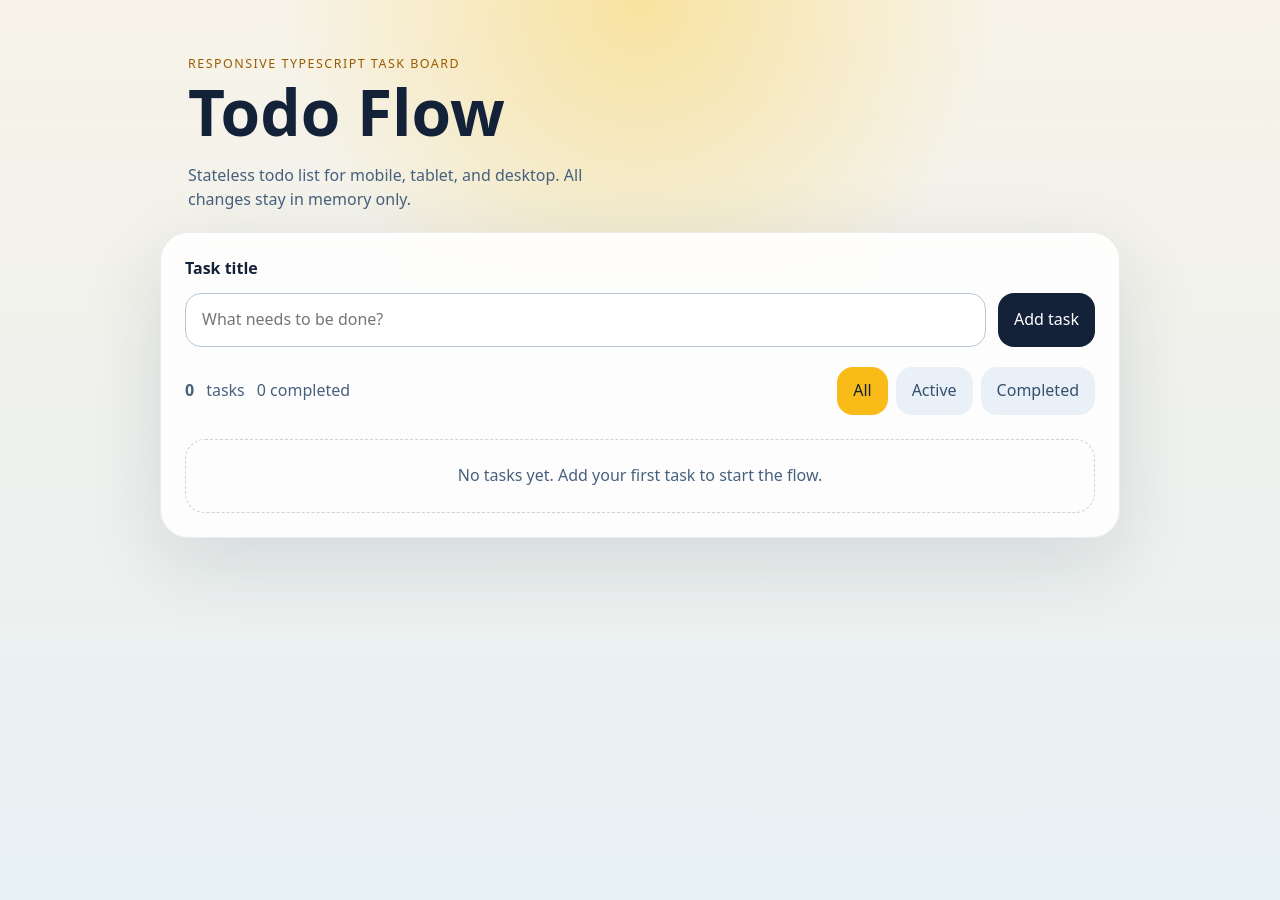
App › edits an existing todo item
The image size is (1280, 900).
Type "Refactor reducer" into the field labelled "Task title" at (586, 320), box left=185, top=292, right=986, bottom=346
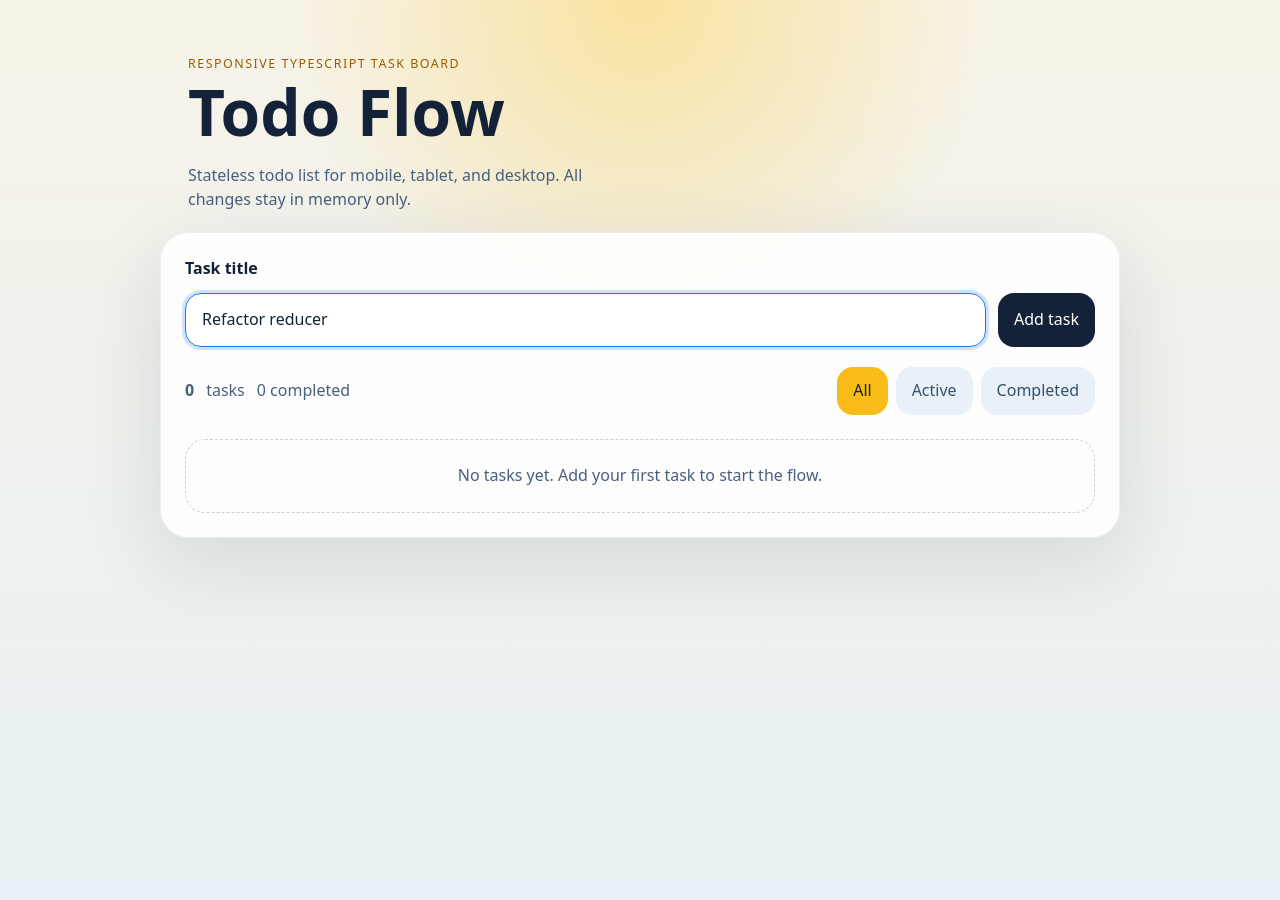
Click the button "Add task" at (1046, 320), box left=998, top=292, right=1095, bottom=346
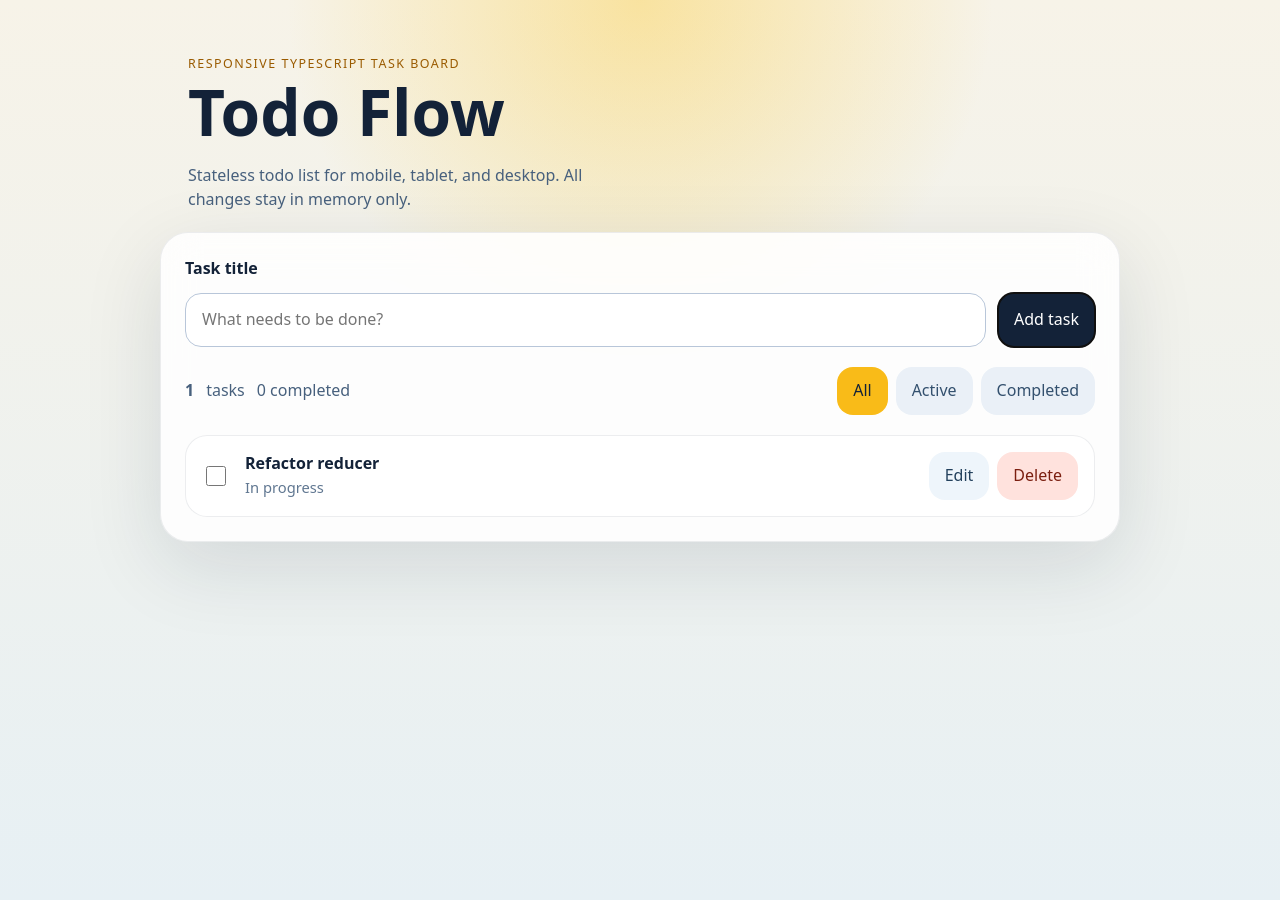
Click the button with aria-label "edit refactor reducer" at (959, 476), box left=929, top=452, right=989, bottom=500
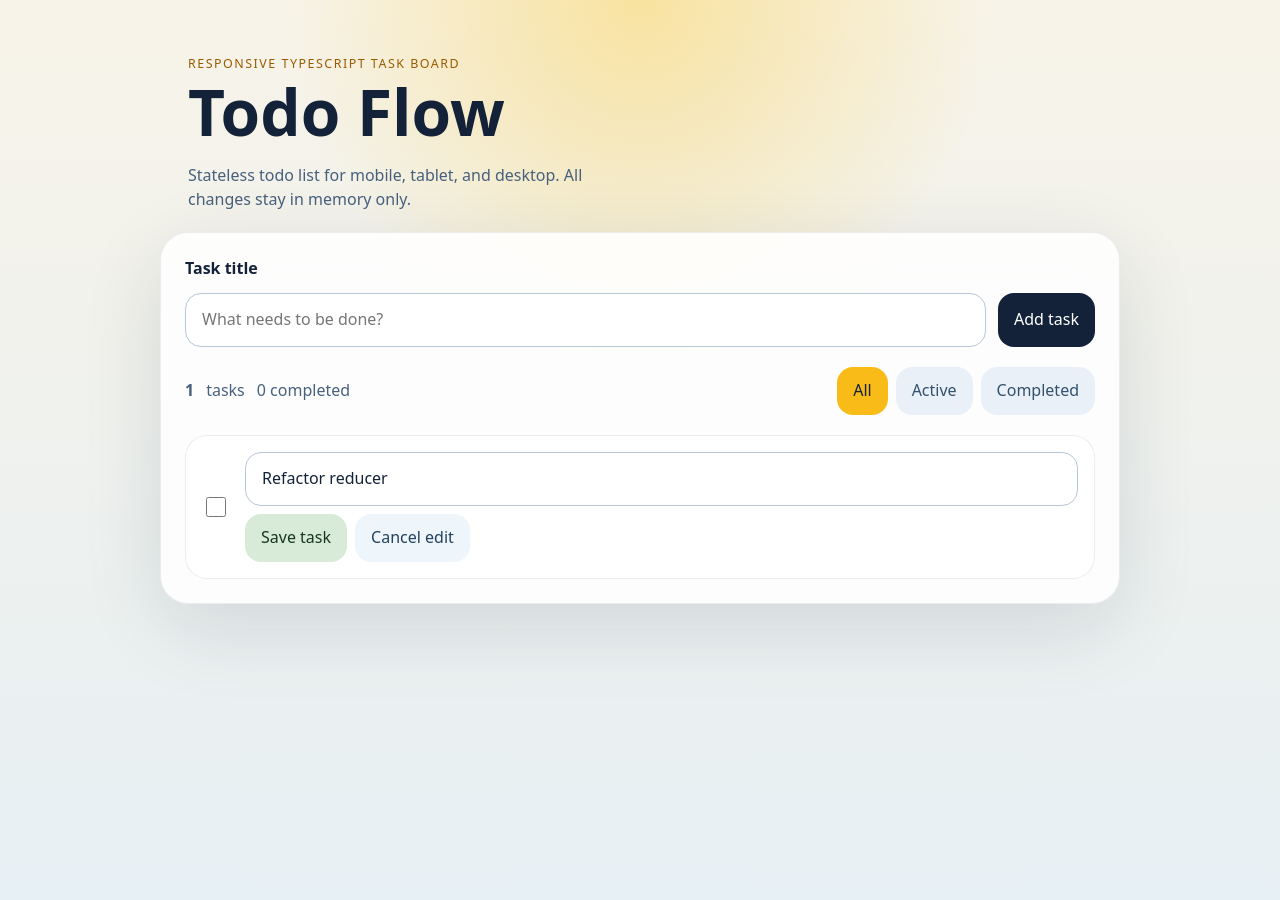
Replace the text in the field named "edit task title" with "Refactor reducer with tests" at (662, 478), box left=245, top=452, right=1078, bottom=506
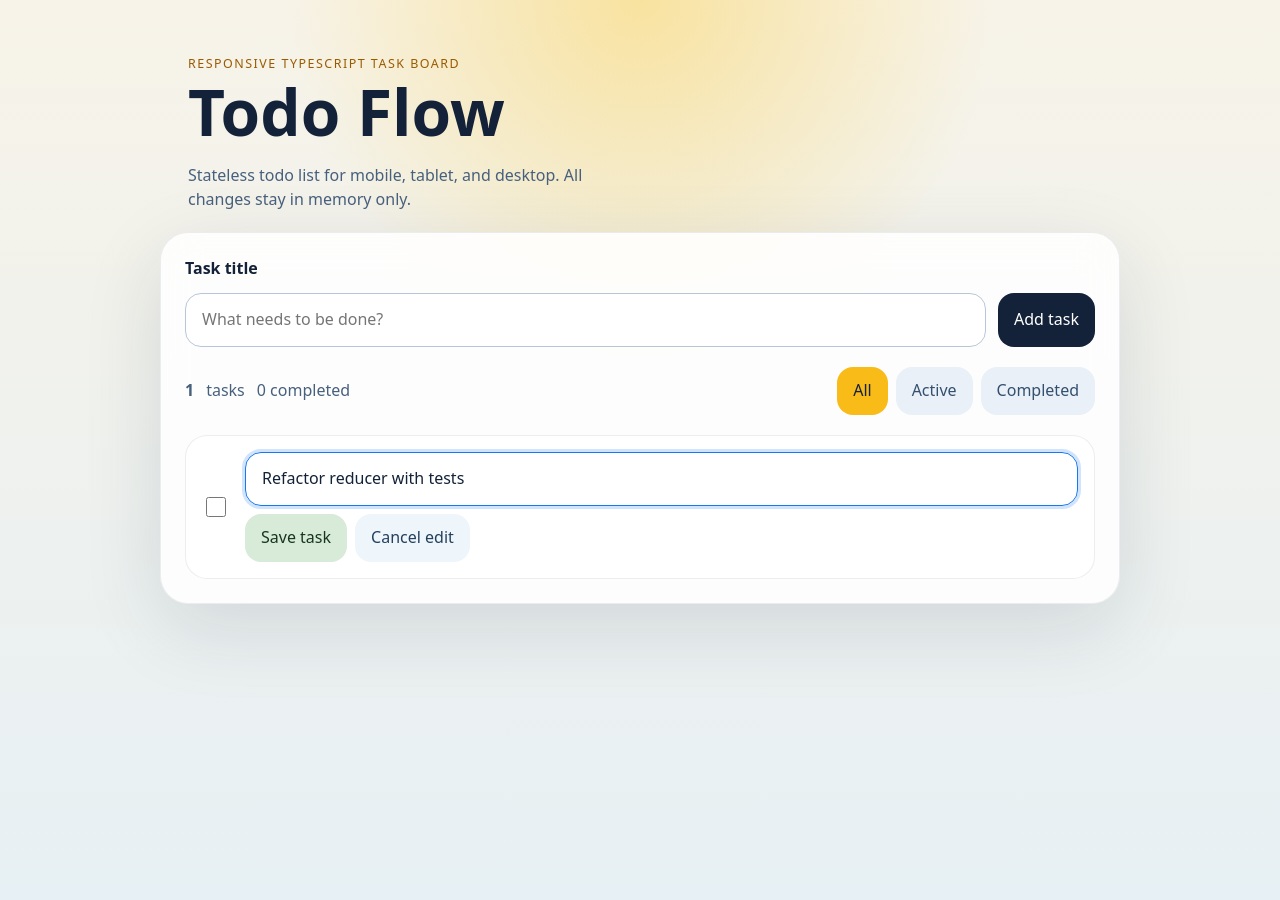
Click the button "Save task" at (296, 538), box left=245, top=514, right=347, bottom=562
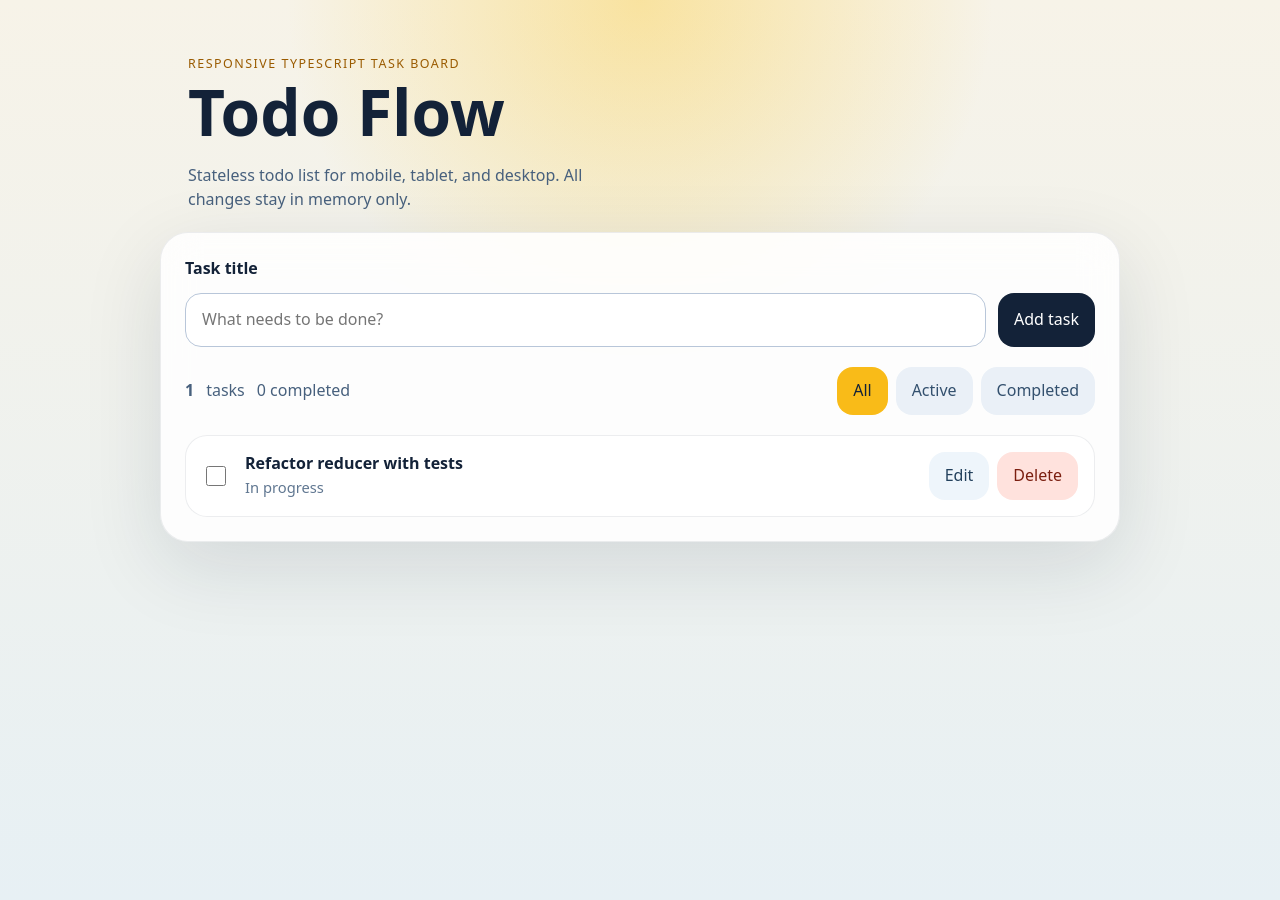
Result: the text "Refactor reducer with tests" is shown at left=245, top=452, right=463, bottom=476
